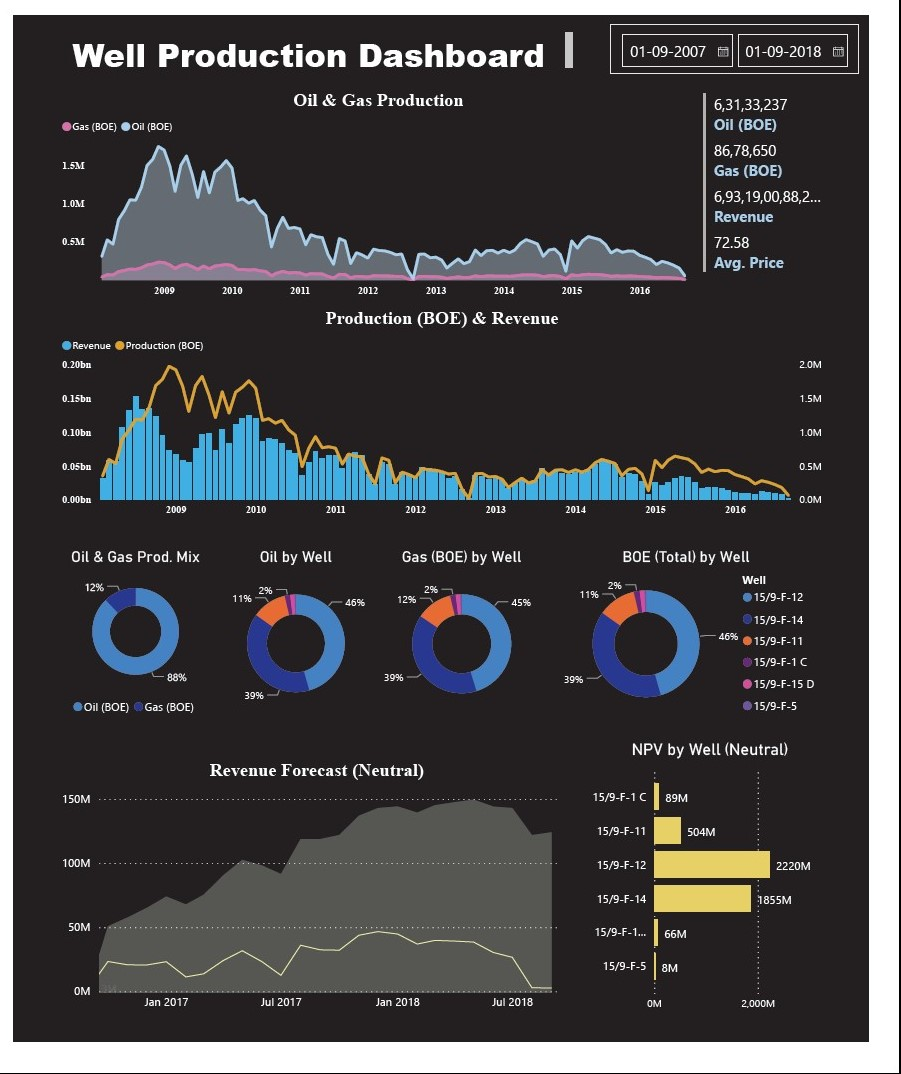

The dashboard page shown, as its layout file describes it:
{"tool":"powerbi","page":{"name":"Well Prod. Dashboard","canvas":[1000,1200],"ordinal":0},"visuals":[{"type":"areaChart","title":"Oil & Gas Production","fields":{"Category":["Date Dim.Date Hierarchy.Date"],"Y":["Monthly Production Data.Gas (BOE)","Monthly Production Data.Oil (BOE)"]},"box":[50.8,86.2,750.8,250.8],"z":0},{"type":"donutChart","fields":{"Category":["Monthly Production Data.Wellbore name"],"Y":["Sum(Monthly Production Data.Oil)"]},"box":[233.8,621.5,192.3,204.6],"z":1000},{"type":"donutChart","fields":{"Category":["Monthly Production Data.Wellbore name"],"Y":["Monthly Production Data.BOE (Gas)"]},"box":[426.2,621.5,195.4,205],"z":2000},{"type":"donutChart","fields":{"Y":["Monthly Production Data.BOE (Total)"],"Category":["Monthly Production Data.Wellbore name"]},"box":[621.5,621.5,329.2,205],"z":3000},{"type":"multiRowCard","fields":{"Values":["Monthly Production Data.Oil (BOE)","Monthly Production Data.BOE (Gas)","Monthly Production Data.Revenue","Crude Oil Prices.AveragePrice"]},"box":[801.5,86.2,149.2,224.6],"z":4000},{"type":"lineChart","title":"Revenue Forecast (Neutral)","fields":{"Y":["Monthly Production Data.Revenue"],"Category":["Date Dim.Date"]},"box":[51,870,607,303],"z":5000},{"type":"textbox","box":[40,14,618,57],"z":6000},{"type":"slicer","fields":{"Values":["Date Dim.Date Hierarchy.Date"]},"box":[698,10,291,58],"z":7000},{"type":"lineStackedColumnComboChart","title":"Production (BOE) & Revenue","fields":{"Y2":["Monthly Production Data.BOE (Total)"],"Category":["Date Dim.Date Hierarchy.Date"],"Y":["Monthly Production Data.Revenue"]},"box":[50.8,341.5,900,252.3],"z":8000},{"type":"clusteredBarChart","title":"NPV by Well (Neutral)","fields":{"Category":["Monthly Production Data.Wellbore name"],"Y":["Monthly Production Data.NPV"]},"box":[658,847,312,326],"z":15000},{"type":"textbox","box":[939,18,61,41],"z":19000},{"type":"donutChart","title":"Oil & Gas Prod. Mix","fields":{"Y":["Monthly Production Data.Oil (BOE)","Monthly Production Data.Gas (BOE)"]},"box":[51,622,183,205],"z":20000}]}

Visuals, with their boxes in screenshot pixels (x1, y1, x2, y2), scaled from the page's 1000x1200 canvas onto the 901x1074 screenshot:
"Oil & Gas Production" areaChart: crop(46, 77, 722, 302)
donutChart - Monthly Production Data.Wellbore name x Sum(Monthly Production Data.Oil): crop(211, 556, 384, 739)
donutChart - Monthly Production Data.Wellbore name x Monthly Production Data.BOE (Gas): crop(384, 556, 560, 740)
donutChart - Monthly Production Data.BOE (Total) x Monthly Production Data.Wellbore name: crop(560, 556, 857, 740)
multiRowCard - Monthly Production Data.Oil (BOE) x Monthly Production Data.BOE (Gas): crop(722, 77, 857, 278)
"Revenue Forecast (Neutral)" lineChart: crop(46, 779, 593, 1050)
textbox: crop(36, 13, 593, 64)
slicer - Date Dim.Date Hierarchy.Date: crop(629, 9, 891, 61)
"Production (BOE) & Revenue" lineStackedColumnComboChart: crop(46, 306, 857, 531)
"NPV by Well (Neutral)" clusteredBarChart: crop(593, 758, 874, 1050)
textbox: crop(846, 16, 900, 53)
"Oil & Gas Prod. Mix" donutChart: crop(46, 557, 211, 740)
